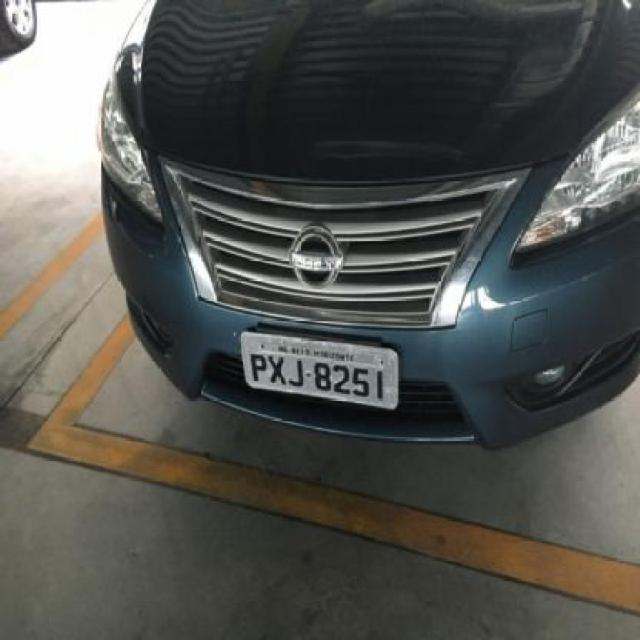old_plate: (235, 327, 408, 415)
